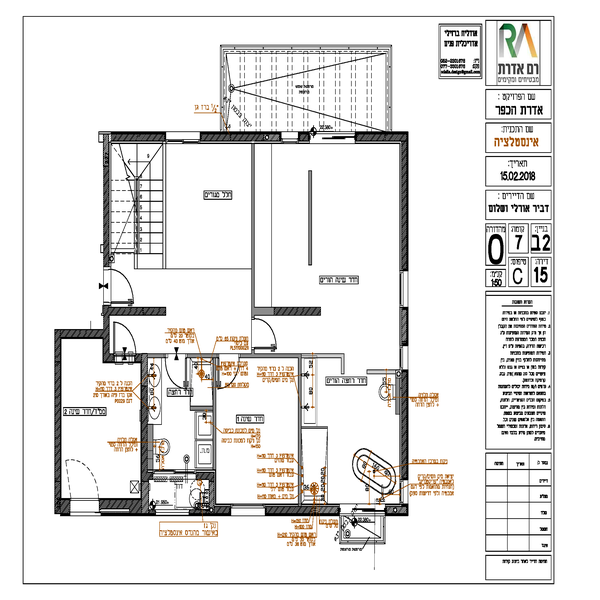door: (248, 317, 286, 356), (103, 266, 139, 305), (111, 317, 137, 364), (163, 356, 192, 393), (217, 357, 243, 392)
room: (99, 134, 257, 352), (252, 134, 412, 320), (297, 349, 410, 516), (55, 326, 149, 516), (213, 354, 304, 517), (139, 354, 218, 516)
wall: (139, 360, 150, 513), (397, 144, 410, 272), (55, 327, 63, 514), (103, 144, 114, 267), (399, 374, 410, 484), (251, 305, 322, 319), (201, 132, 282, 144), (297, 354, 303, 504), (103, 130, 166, 144), (307, 169, 315, 267), (267, 504, 345, 514), (356, 130, 408, 144), (251, 142, 255, 312), (102, 306, 165, 316), (63, 327, 101, 338), (241, 354, 299, 360), (399, 308, 407, 345), (195, 469, 216, 479)
window: (342, 503, 387, 515), (310, 132, 356, 143), (398, 338, 411, 371), (397, 271, 407, 304), (234, 505, 267, 515), (168, 131, 199, 141), (156, 505, 189, 514)
